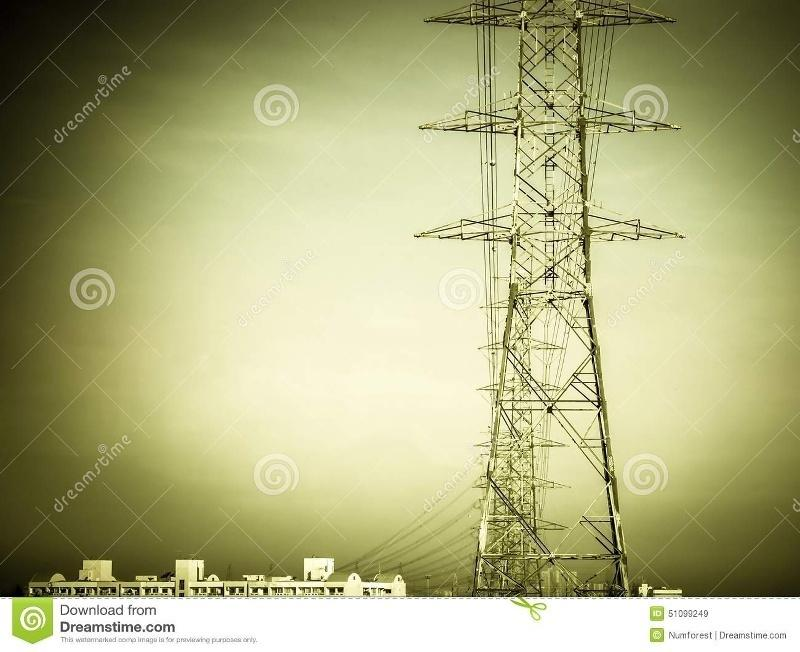power_tower: (405, 0, 692, 595)
